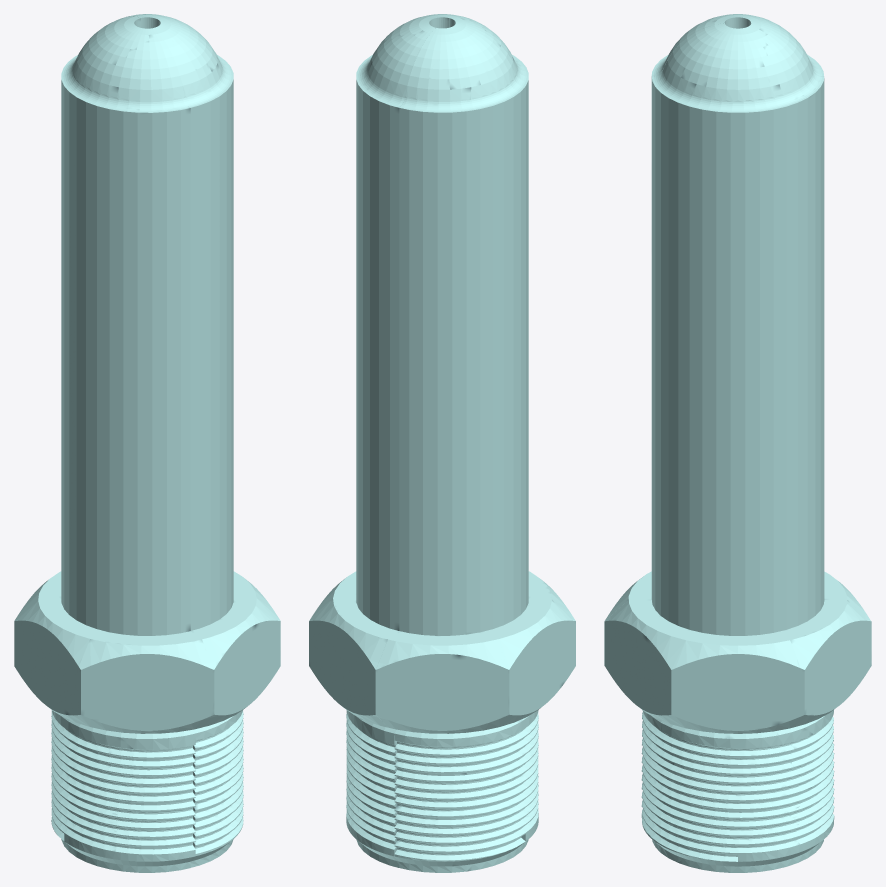
File: Extra-Nozzle1-M.glb
3 renders of one model, left to right at view 1: azimuth 30°, elevation 25°; view 2: azimuth 150°, elevation 25°; view 3: azimuth 270°, elevation 25°, orthographic.
Parts seen in each view (by area): view 1: nozzle.002, nozzle.001; view 2: nozzle.002, nozzle.001; view 3: nozzle.001, nozzle.002.
Part boxes in pixels (bbox=[...]): nozzle.002: bbox=[14, 16, 214, 872]; nozzle.001: bbox=[129, 14, 280, 867]; nozzle.002: bbox=[376, 16, 575, 872]; nozzle.001: bbox=[309, 14, 458, 867]; nozzle.001: bbox=[604, 23, 871, 872]; nozzle.002: bbox=[604, 14, 869, 818].
Bounding box in the file's own units: 0.688 × 2.67 × 0.7951.
Materials: 1 (1 with a texture image).
